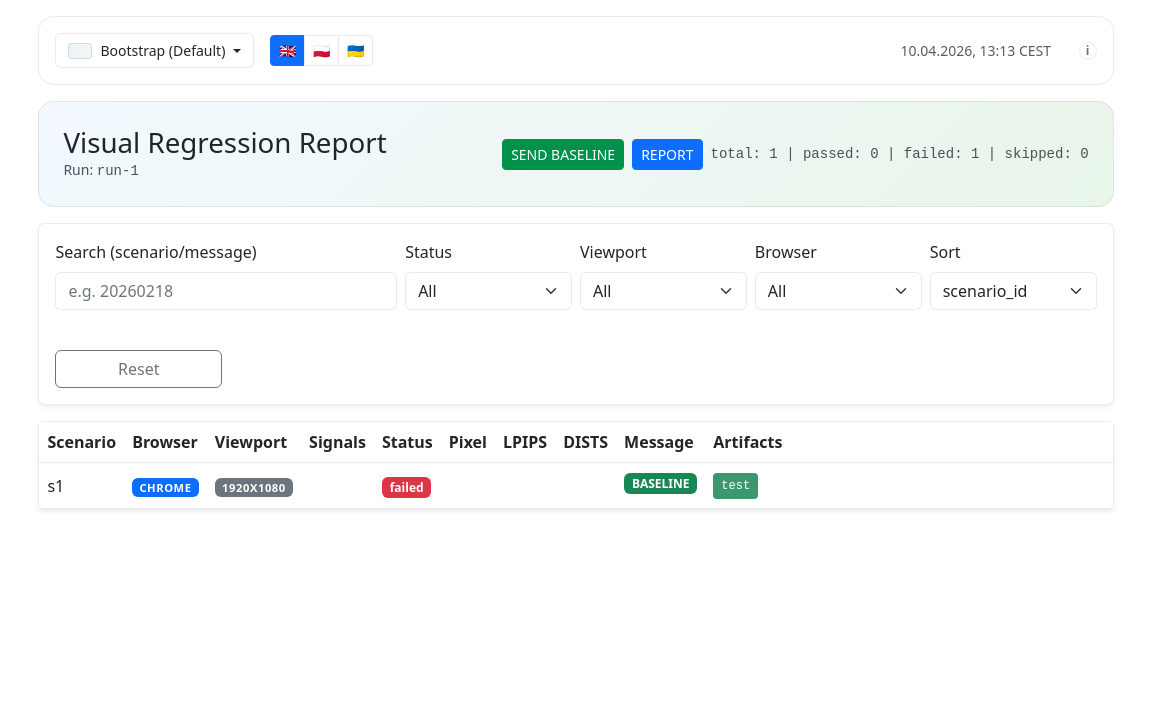
Test: ReportPage › keeps lock heartbeat running while baseline confirmation prompt is open
Click the button with class "btn-success" at (563, 154), box [502,139,624,170]
Wait 16000 ms
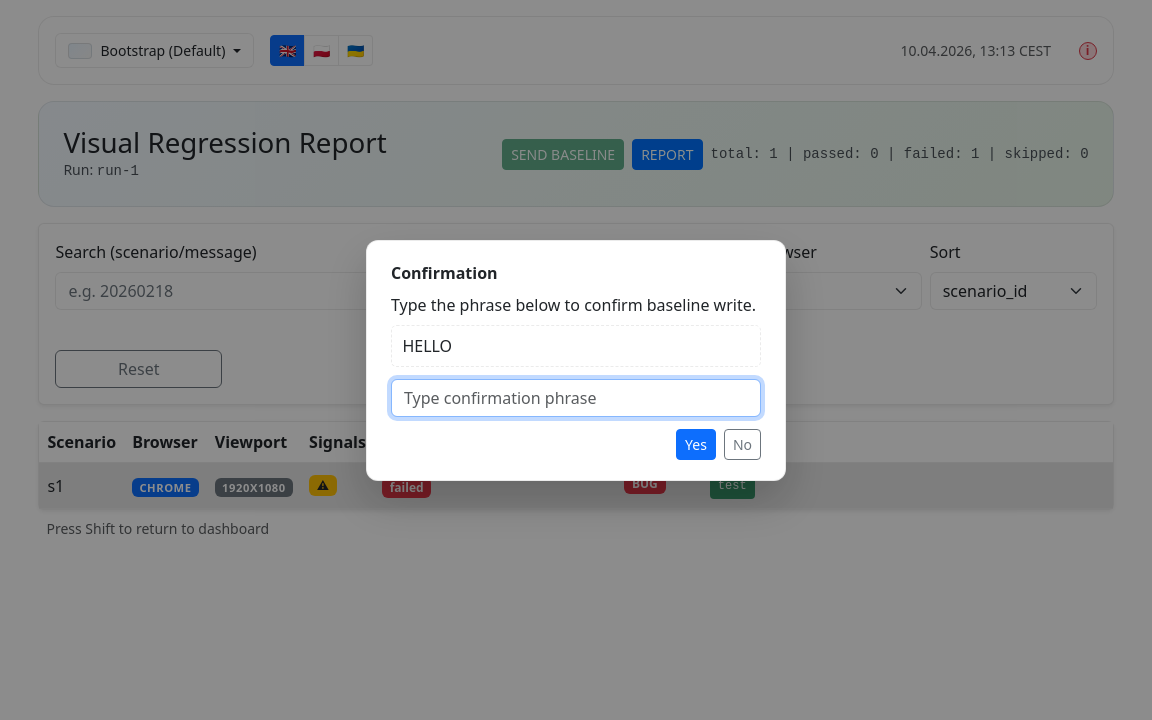
Expected: the dialog with class "baseline-send-overlay" is shown
